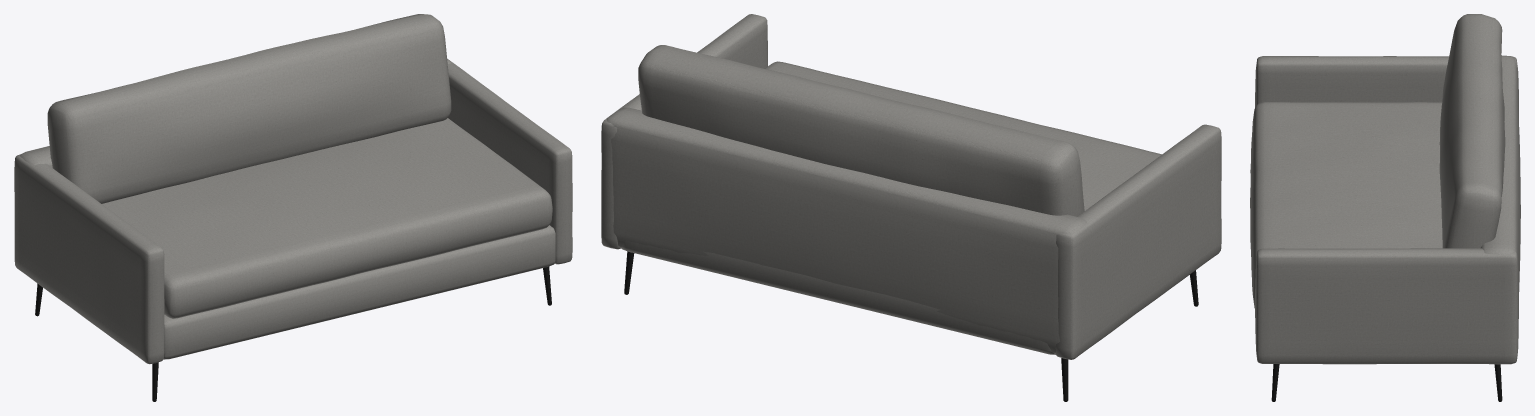
File: sofa_brazo_fino_2p.glb
3 views of the same model, side by side, from view 1: azimuth 30°, elevation 25°; view 2: azimuth 150°, elevation 25°; view 3: azimuth 270°, elevation 25° (orthographic). The views are drawn at different scales.
Visible parts, largest first — view 1: sofa_brazo_fino_2p; view 2: sofa_brazo_fino_2p; view 3: sofa_brazo_fino_2p.
Boxes of the visible parts, left/top/right/bottom form: sofa_brazo_fino_2p: left=14, top=14, right=572, bottom=401; sofa_brazo_fino_2p: left=601, top=14, right=1221, bottom=401; sofa_brazo_fino_2p: left=1250, top=14, right=1520, bottom=401.
Size of the model in its own units: 1.6 by 0.7861 by 0.9109.
2 materials, 1 textured.
